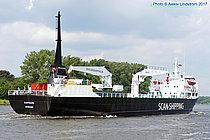Ship: (6, 7, 204, 118)
